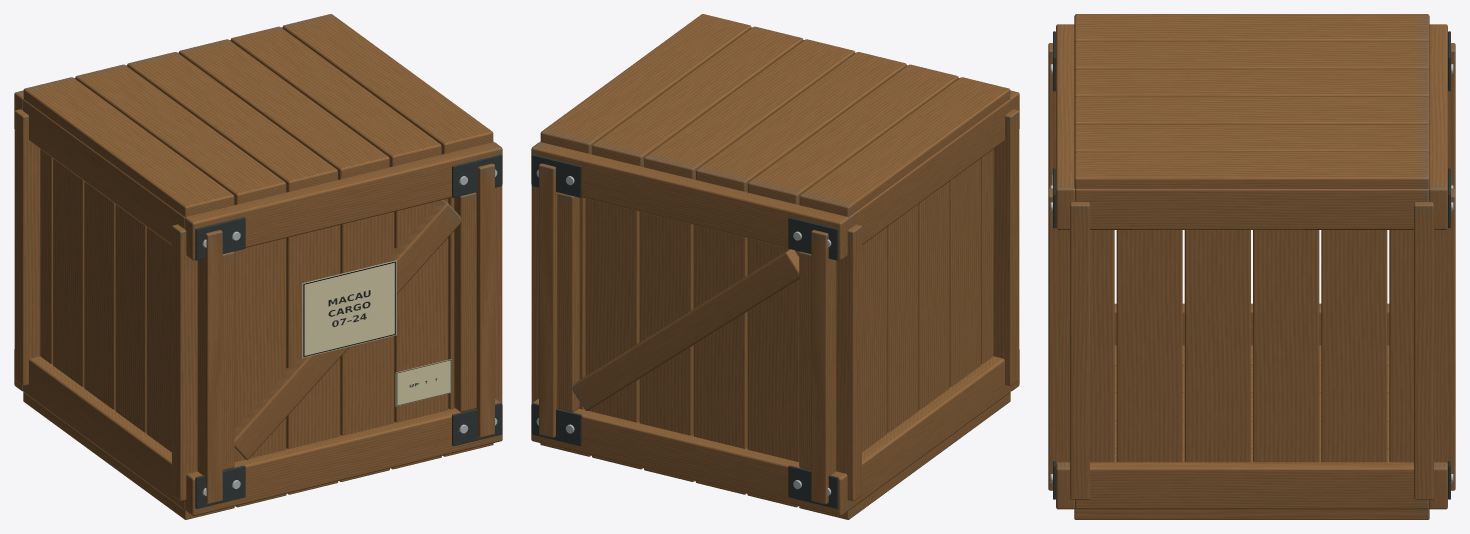
Rendered from crate.glb.
The picture shows the model from 3 angles, left to right: view 1: azimuth 30°, elevation 25°; view 2: azimuth 150°, elevation 25°; view 3: azimuth 270°, elevation 25°; orthographic projection. The views are drawn at different scales.
Parts seen in each view (by area): view 1: Cross rail.001, Cross rail, Lid planks, Individual timber board.001, Lid planks.001, Lid planks.004, Lid planks.005, Lid planks.003, Lid planks.002, Individual timber board.003, Individual timber board.004, Shipping stencil (+22 smaller); view 2: Cross rail.003, Cross rail.002, Lid planks, Individual timber board.010, Individual timber board.008, Individual timber board.009, Individual timber board.007, Lid planks.001, Lid planks.004, Lid planks.005, Lid planks.003, Lid planks.002 (+20 smaller); view 3: Side cross rail.002, Side timber board.007, Side timber board.010, Side timber board.008, Side timber board.009, Side cross rail.003, Lid planks.005, Lid planks.001, Lid planks.002, Lid planks, Lid planks.003, Lid planks.004 (+14 smaller).
Boxes of the visible parts, x1=… form: Cross rail.001: x1=184, y1=142, x2=502, y2=260; Cross rail: x1=184, y1=399, x2=502, y2=515; Lid planks: x1=23, y1=77, x2=234, y2=216; Individual timber board.001: x1=234, y1=238, x2=286, y2=461; Lid planks.001: x1=75, y1=64, x2=286, y2=204; Lid planks.004: x1=230, y1=26, x2=441, y2=166; Lid planks.005: x1=282, y1=14, x2=493, y2=154; Lid planks.003: x1=179, y1=39, x2=389, y2=179; Lid planks.002: x1=127, y1=52, x2=337, y2=192; Individual timber board.003: x1=340, y1=212, x2=394, y2=435; Individual timber board.004: x1=394, y1=198, x2=448, y2=422; Shipping stencil: x1=302, y1=260, x2=396, y2=358; Cross rail.003: x1=531, y1=142, x2=849, y2=260; Cross rail.002: x1=531, y1=399, x2=849, y2=515; Lid planks: x1=799, y1=77, x2=1010, y2=216; Individual timber board.010: x1=585, y1=198, x2=639, y2=422; Individual timber board.008: x1=693, y1=225, x2=747, y2=448; Individual timber board.009: x1=639, y1=212, x2=693, y2=435; Individual timber board.007: x1=747, y1=238, x2=799, y2=461; Lid planks.001: x1=747, y1=64, x2=958, y2=204; Lid planks.004: x1=592, y1=26, x2=803, y2=166; Lid planks.005: x1=540, y1=14, x2=751, y2=154; Lid planks.003: x1=644, y1=39, x2=854, y2=179; Lid planks.002: x1=696, y1=52, x2=906, y2=192; Side cross rail.002: x1=1075, y1=461, x2=1428, y2=509; Side timber board.007: x1=1116, y1=230, x2=1182, y2=462; Side timber board.010: x1=1321, y1=230, x2=1387, y2=462; Side timber board.008: x1=1184, y1=230, x2=1250, y2=462; Side timber board.009: x1=1253, y1=230, x2=1319, y2=462; Side cross rail.003: x1=1075, y1=189, x2=1428, y2=229; Lid planks.005: x1=1074, y1=152, x2=1429, y2=188; Lid planks.001: x1=1074, y1=41, x2=1429, y2=70; Lid planks.002: x1=1074, y1=69, x2=1429, y2=98; Lid planks: x1=1074, y1=14, x2=1429, y2=43; Lid planks.003: x1=1074, y1=97, x2=1429, y2=125; Lid planks.004: x1=1074, y1=124, x2=1429, y2=153.
Bounding box in the file's own units: 1.4 × 1.3 × 1.4.
Materials: 1 (1 with a texture image).
